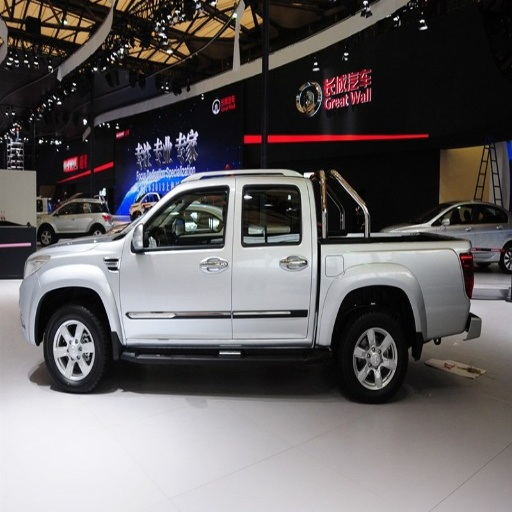back_left_door: (233, 180, 313, 339)
trunk: (314, 246, 465, 345)
